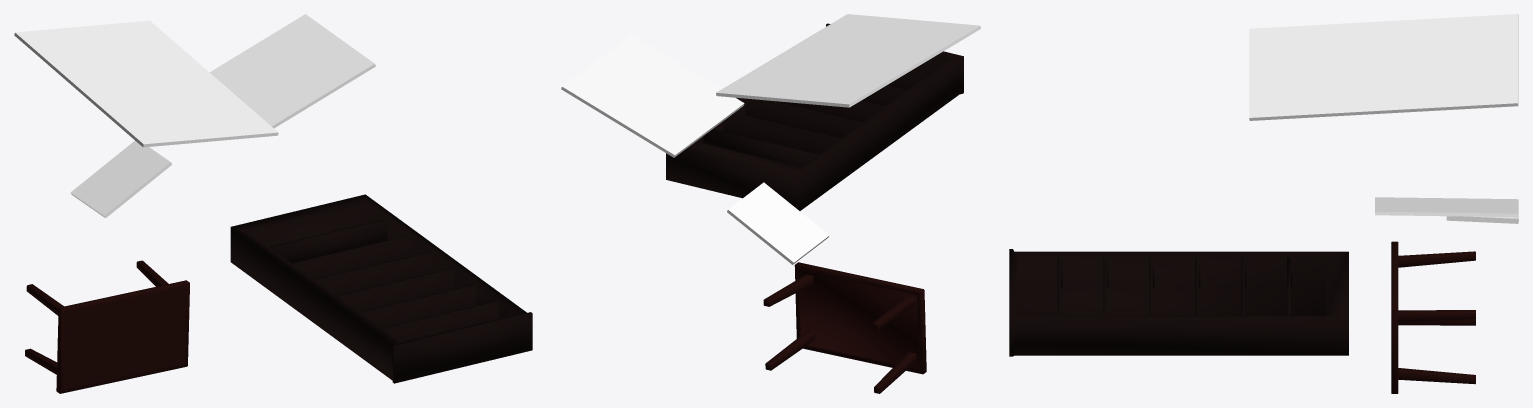
3 views of the same model, side by side, from view 1: azimuth 30°, elevation 25°; view 2: azimuth 150°, elevation 25°; view 3: azimuth 270°, elevation 25° (orthographic). The views are drawn at different scales.
Visible parts, largest first — view 1: diffuse_shelf_02, glass_door_02, diffuse_table_01, glass_table_01, glass_partition_03; view 2: diffuse_shelf_02, glass_door_02, diffuse_table_01, glass_table_01, glass_partition_03; view 3: diffuse_shelf_02, glass_door_02, diffuse_table_01, glass_table_01, glass_partition_03.
Part boxes in pixels (box(x1,y1,x2,y2)): diffuse_shelf_02: box(230, 194, 532, 383); glass_door_02: box(14, 20, 278, 147); diffuse_table_01: box(25, 260, 189, 393); glass_table_01: box(210, 14, 375, 128); glass_partition_03: box(70, 141, 171, 218); diffuse_shelf_02: box(666, 23, 963, 210); glass_door_02: box(716, 14, 980, 107); diffuse_table_01: box(763, 262, 926, 393); glass_table_01: box(561, 34, 744, 157); glass_partition_03: box(727, 182, 829, 264); diffuse_shelf_02: box(1009, 249, 1348, 356); glass_door_02: box(1249, 14, 1518, 120); diffuse_table_01: box(1391, 241, 1475, 393); glass_table_01: box(1375, 197, 1518, 217); glass_partition_03: box(1446, 216, 1518, 223).
Bounding box in the file's own units: 204 × 199 × 284.
